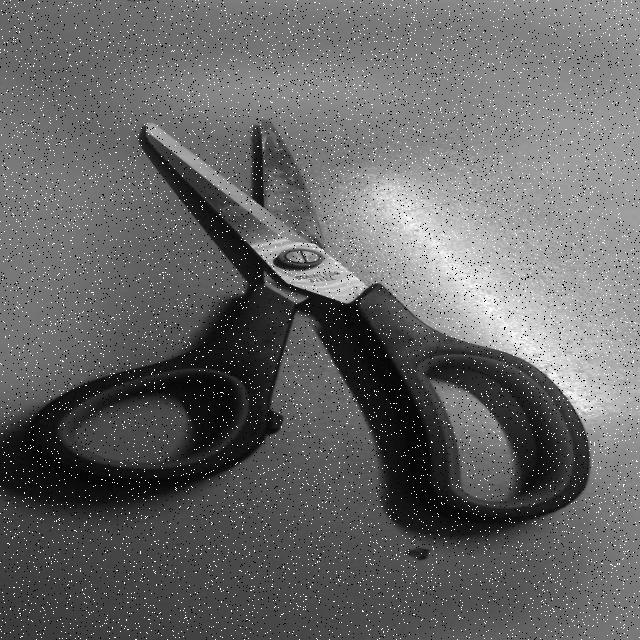scissors: (0, 118, 602, 530)
